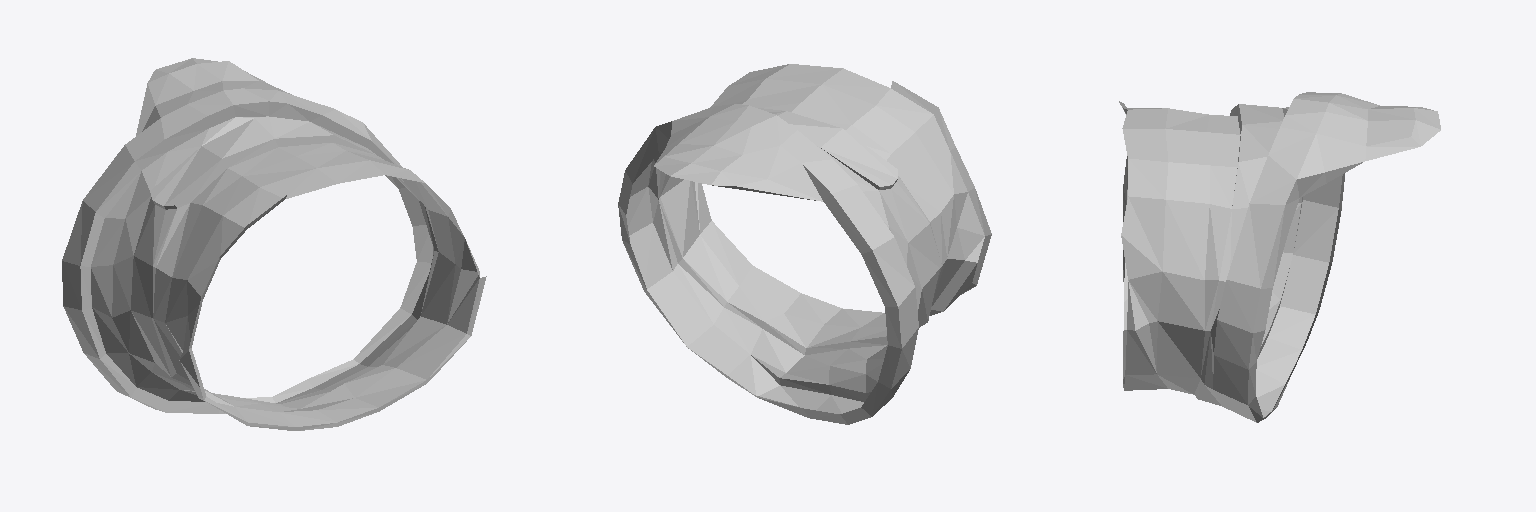
Rendered from mdlB2.obj.
The picture shows the model from 3 angles: view 1: azimuth 30°, elevation 25°; view 2: azimuth 150°, elevation 25°; view 3: azimuth 270°, elevation 25°; orthographic projection.
Parts seen in each view (by area): view 1: mdl.004; view 2: mdl.004; view 3: mdl.004.
Part boxes in pixels (x1,y1,x2,y2): mdl.004: (62,58,486,430); mdl.004: (618,64,991,424); mdl.004: (1119,92,1440,422).
Size of the model in its own units: 25.8 by 22.59 by 22.09.